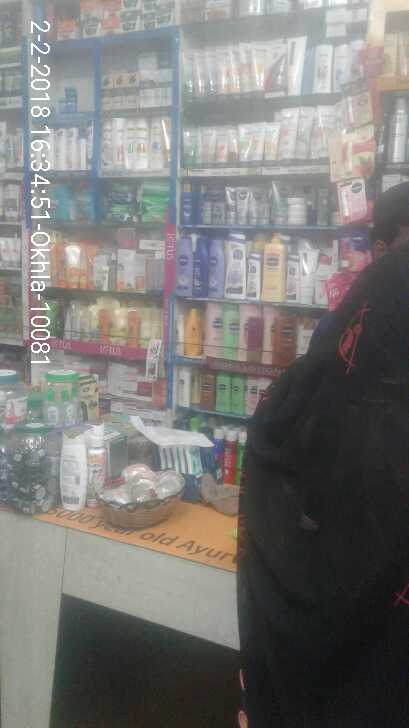vicks: (53, 81, 80, 119)
